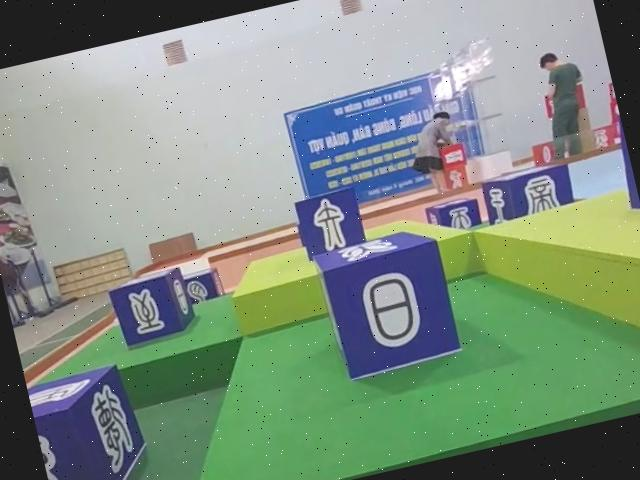R2 Fake Blue: (305, 223, 460, 383), (25, 364, 157, 480), (108, 266, 200, 350), (481, 159, 578, 225), (289, 186, 368, 264), (609, 111, 640, 232), (424, 192, 484, 234), (178, 265, 223, 304)
